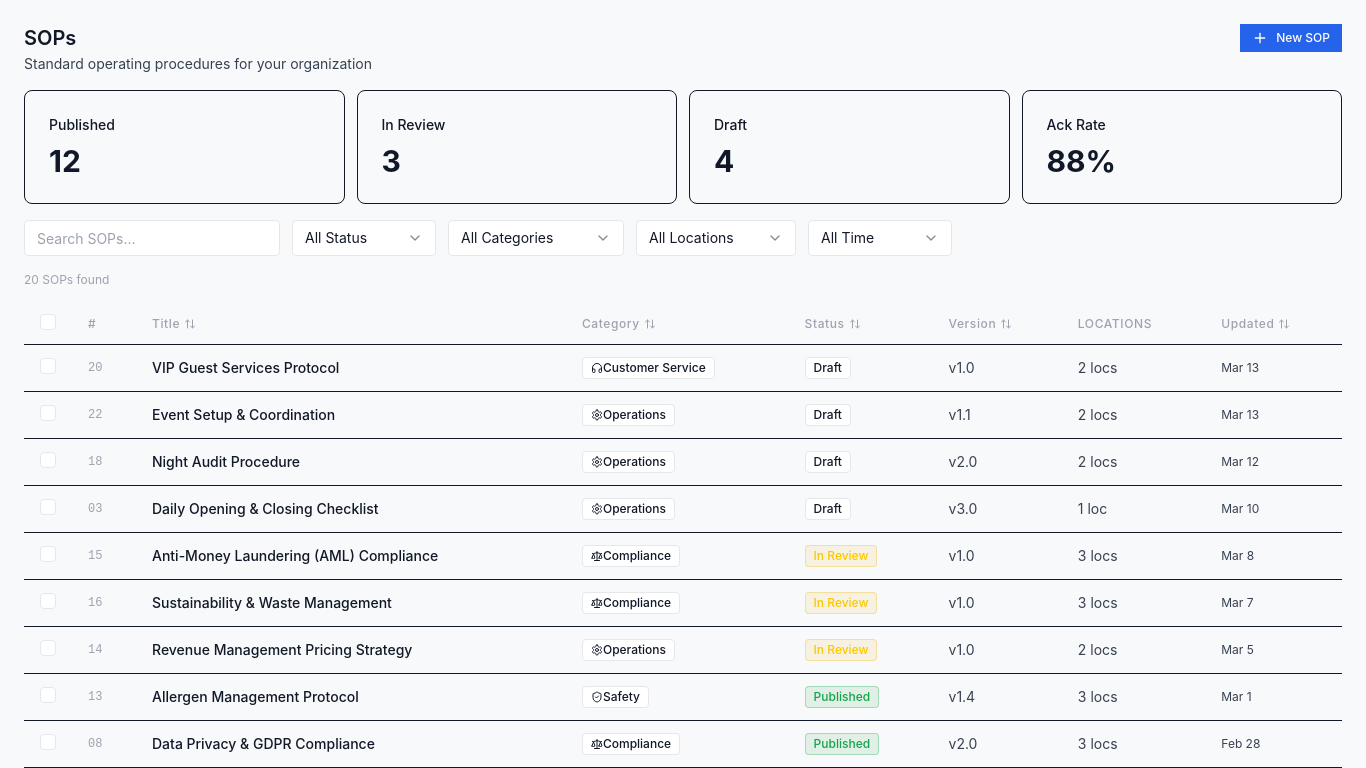
Test: SOPsPage › search filters SOPs by title
In the field with placeholder "Search SOPs...": (152, 238) [24, 220, 280, 256], type "Food Safety "
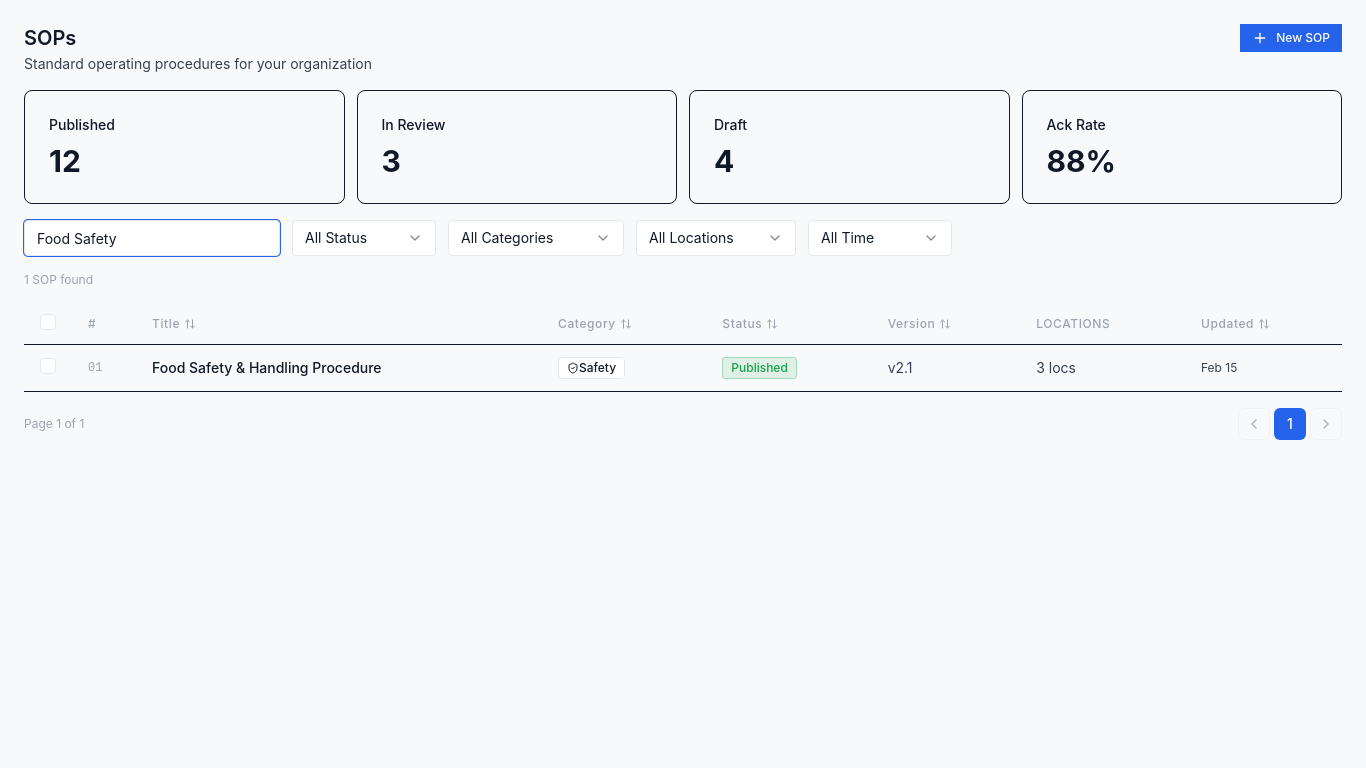
Check: the link "Food Safety & Handling Procedure" is shown, box [152, 358, 382, 376]
